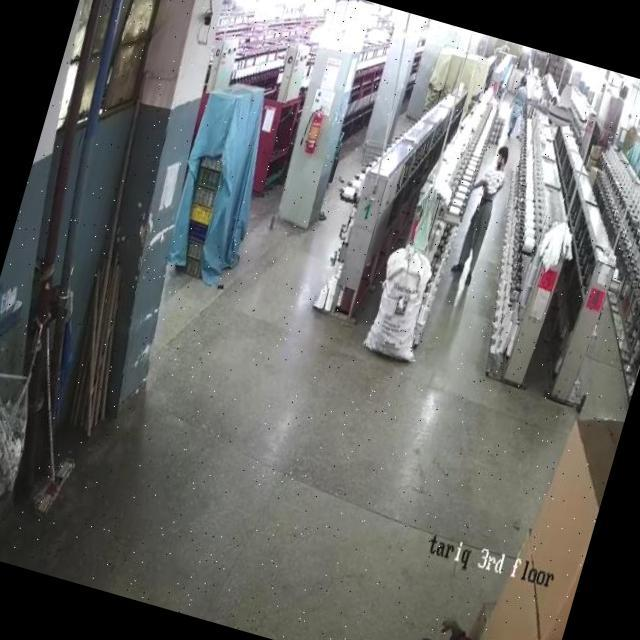person: (456, 139, 510, 265), (411, 616, 476, 640), (505, 84, 527, 140)
